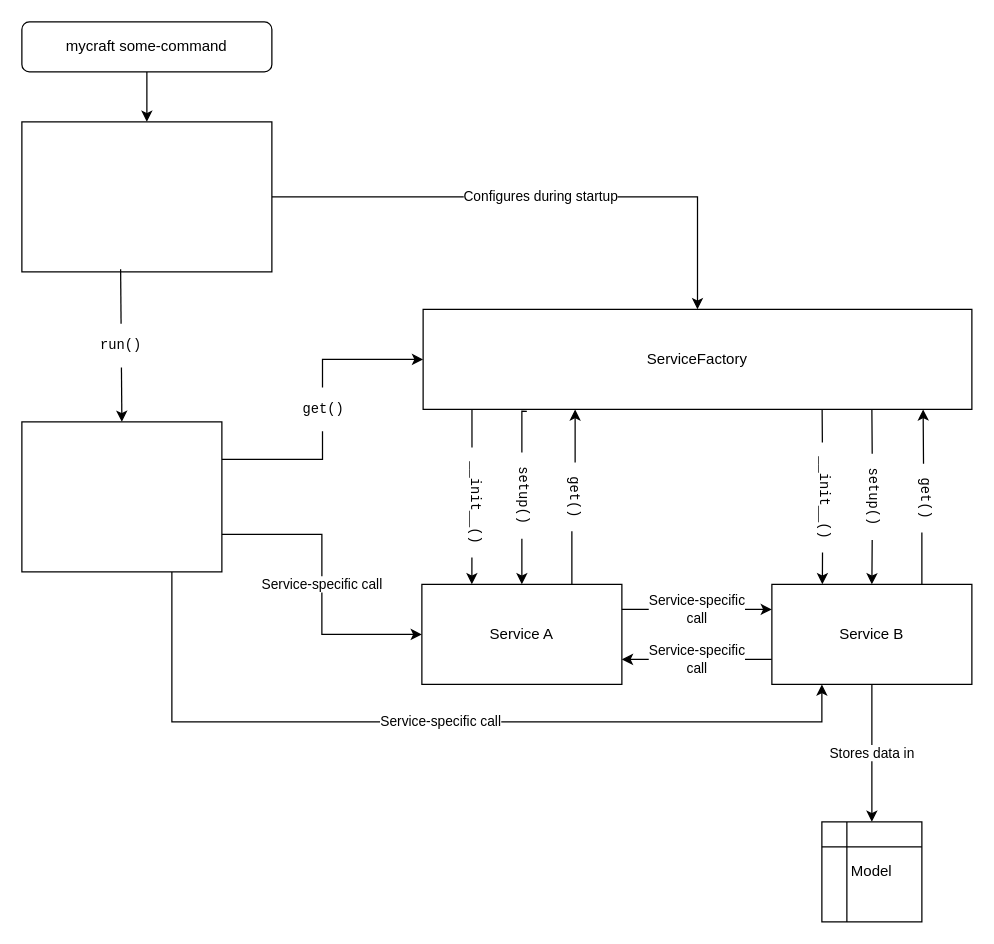
The diagram is 994 pixels wide and 944 high, and some of its shapes have lost their labels. The centre of each missing label's shape, as x and y in pixels:
Application: (x=146, y=196)
Command: (x=121, y=496)
